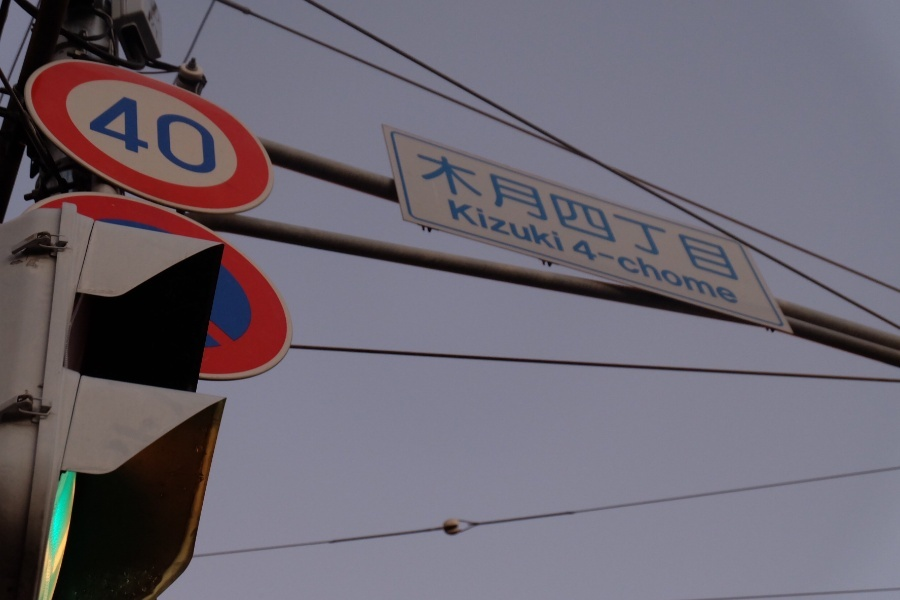text: (417, 147, 432, 286), (433, 147, 448, 286), (449, 147, 464, 286), (465, 147, 480, 286), (481, 147, 496, 286), (497, 147, 512, 286), (513, 147, 528, 286), (529, 147, 544, 286), (545, 147, 560, 286), (561, 147, 576, 286), (577, 147, 592, 286), (593, 147, 608, 286), (609, 147, 624, 286), (625, 147, 640, 286), (641, 147, 656, 286), (657, 147, 672, 286), (673, 147, 688, 286), (689, 147, 704, 286), (705, 147, 720, 286), (721, 147, 736, 286), (225, 94, 241, 189), (129, 94, 144, 189), (145, 94, 160, 189), (161, 94, 176, 189), (177, 94, 192, 189), (193, 94, 208, 189), (209, 94, 224, 189), (577, 235, 592, 311), (593, 235, 608, 311), (609, 235, 624, 311), (625, 235, 640, 311), (641, 235, 656, 311), (657, 235, 672, 311), (673, 235, 688, 311), (689, 235, 704, 311), (705, 235, 720, 311), (721, 235, 736, 311), (737, 147, 745, 286), (449, 197, 464, 257), (465, 197, 480, 257), (481, 197, 496, 257), (497, 197, 512, 257), (513, 197, 528, 257), (529, 197, 544, 257), (545, 197, 560, 257), (569, 235, 576, 311), (561, 197, 569, 257), (737, 235, 742, 311), (414, 147, 416, 286), (444, 197, 448, 257), (127, 94, 128, 189)
